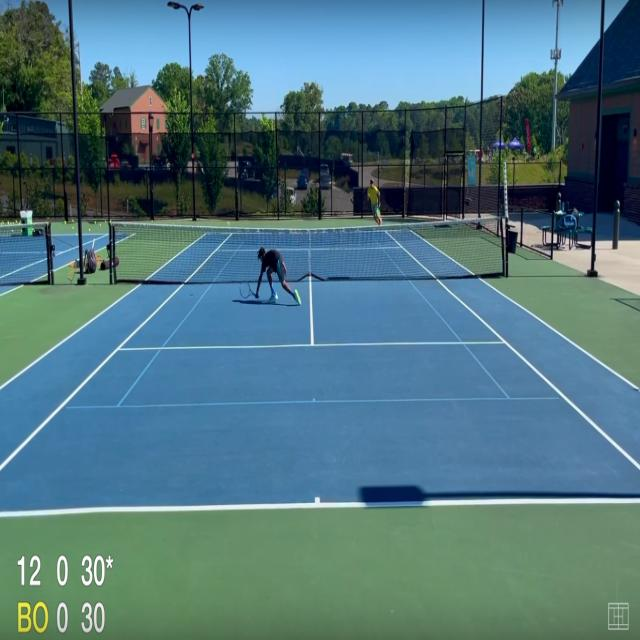ball: (228, 221, 230, 225)
